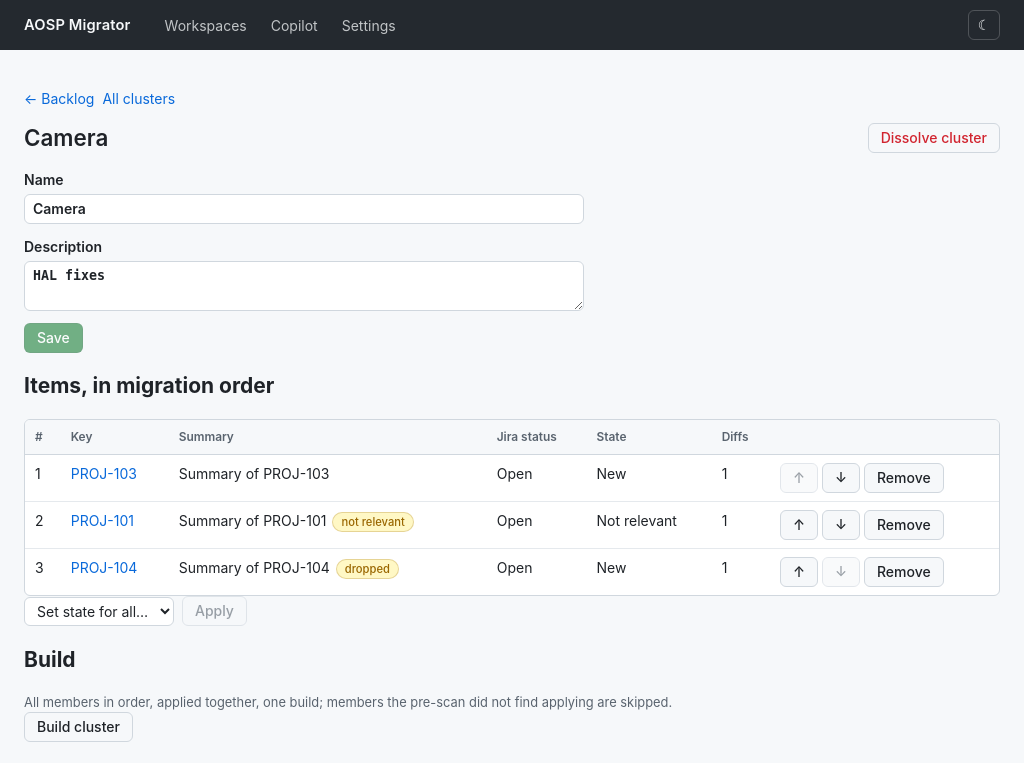
Test: ClusterPage › dissolves after confirmation
Step 1. Click the button "Dissolve cluster" → (934, 138), box [868,123,1000,153]
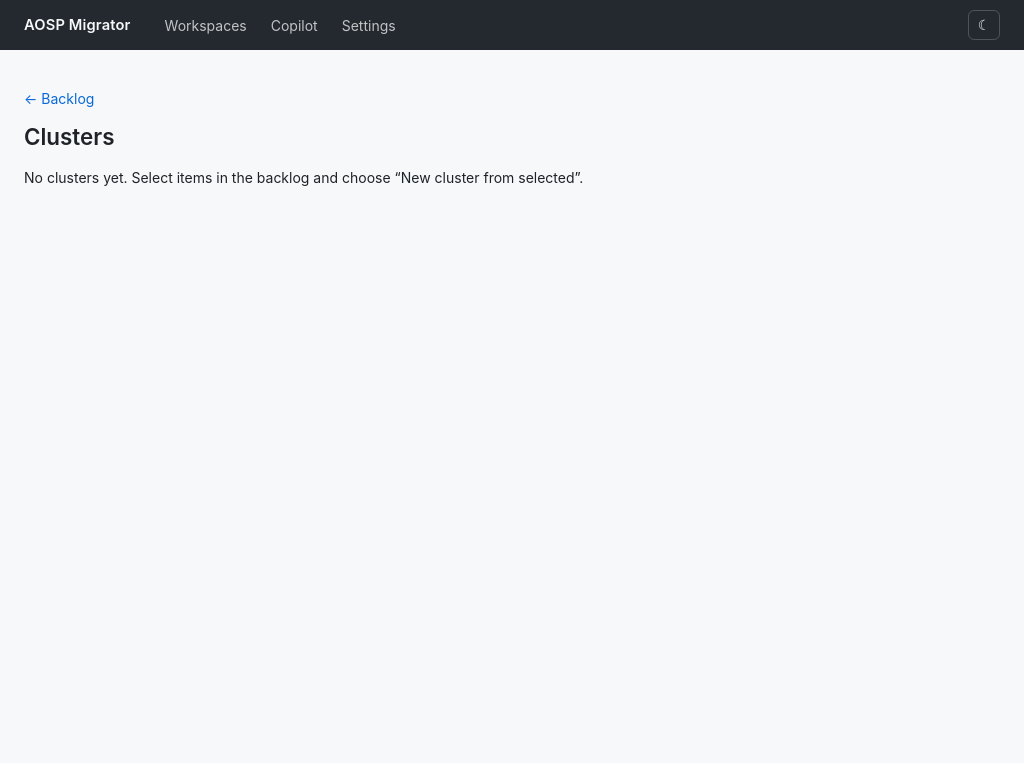
Result: the text "No clusters yet" is shown at [24,169,583,186]
